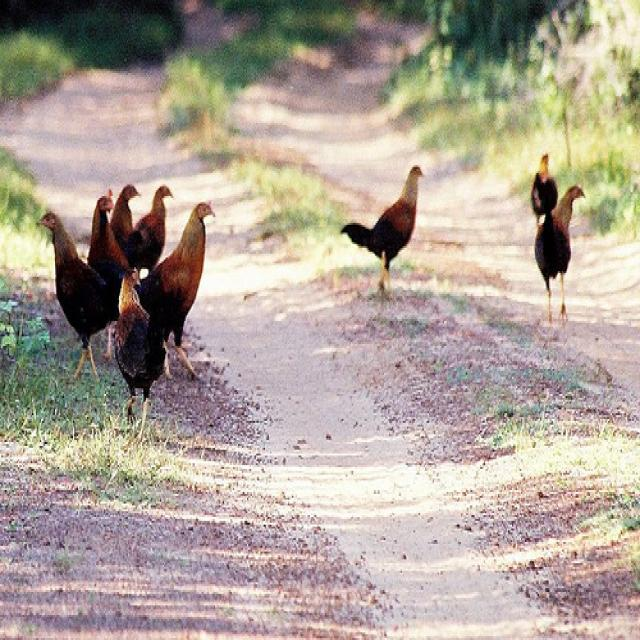bird: (36, 211, 119, 384), (137, 201, 217, 378), (340, 164, 425, 297), (115, 266, 167, 441), (535, 184, 587, 326), (125, 184, 174, 272), (88, 187, 129, 278), (531, 153, 559, 216), (113, 184, 141, 239)
